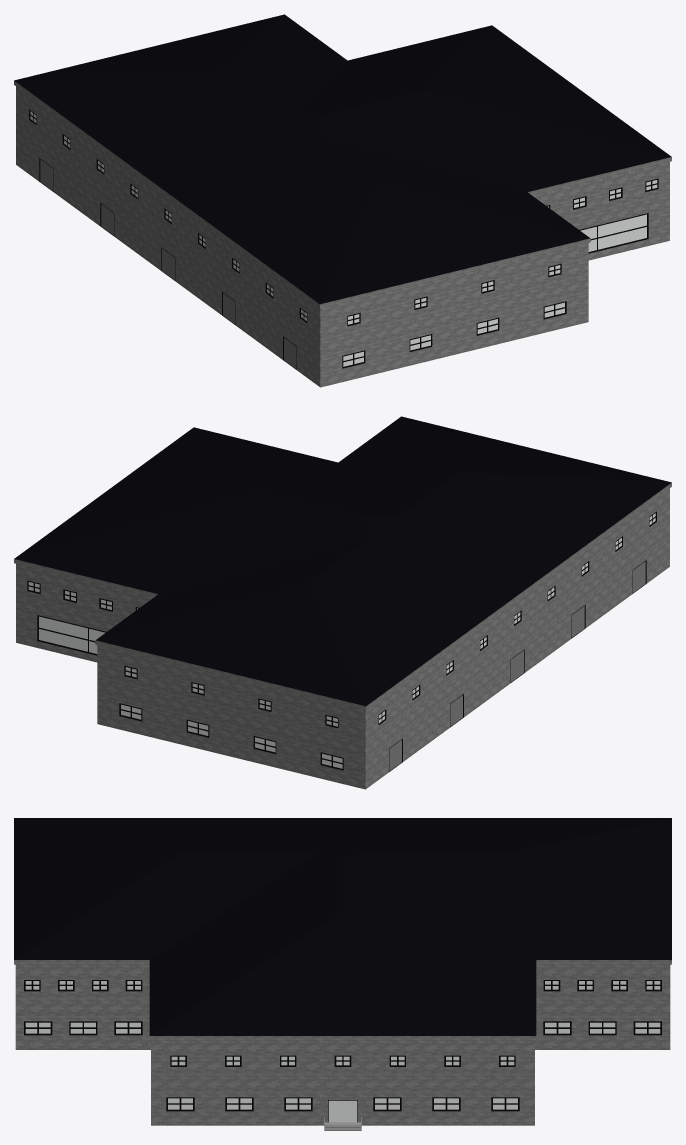
Rendered from Colegio.fbx.
3 renders of one model, top to bottom at view 1: azimuth 30°, elevation 25°; view 2: azimuth 150°, elevation 25°; view 3: azimuth 270°, elevation 25°, orthographic. The views are drawn at different scales.
Visible parts, largest first — view 1: building_027; view 2: building_027; view 3: building_027.
Part boxes in pixels (<box>): building_027: <box>14,14,671,387</box>; building_027: <box>14,416,671,789</box>; building_027: <box>14,818,671,1130</box>.
Bounding box in the file's own units: 6800 × 1888 × 8500.
2 materials, 2 textured.
